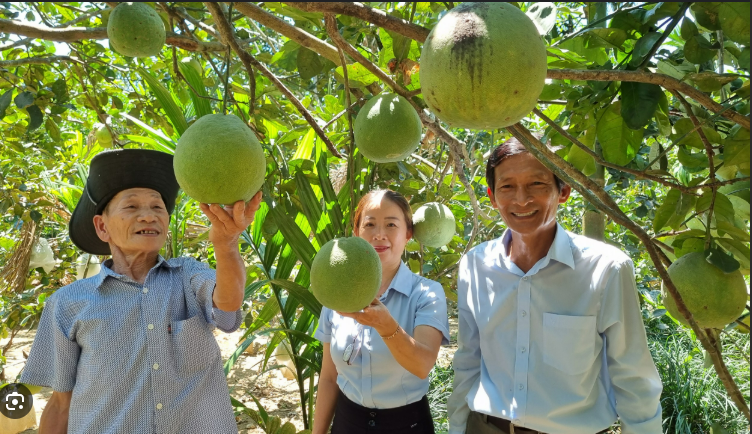buoi: (410, 2, 552, 134), (172, 102, 273, 211), (657, 237, 750, 333), (342, 82, 428, 166), (304, 235, 386, 317), (100, 3, 172, 61), (410, 198, 462, 254), (98, 121, 120, 150)
